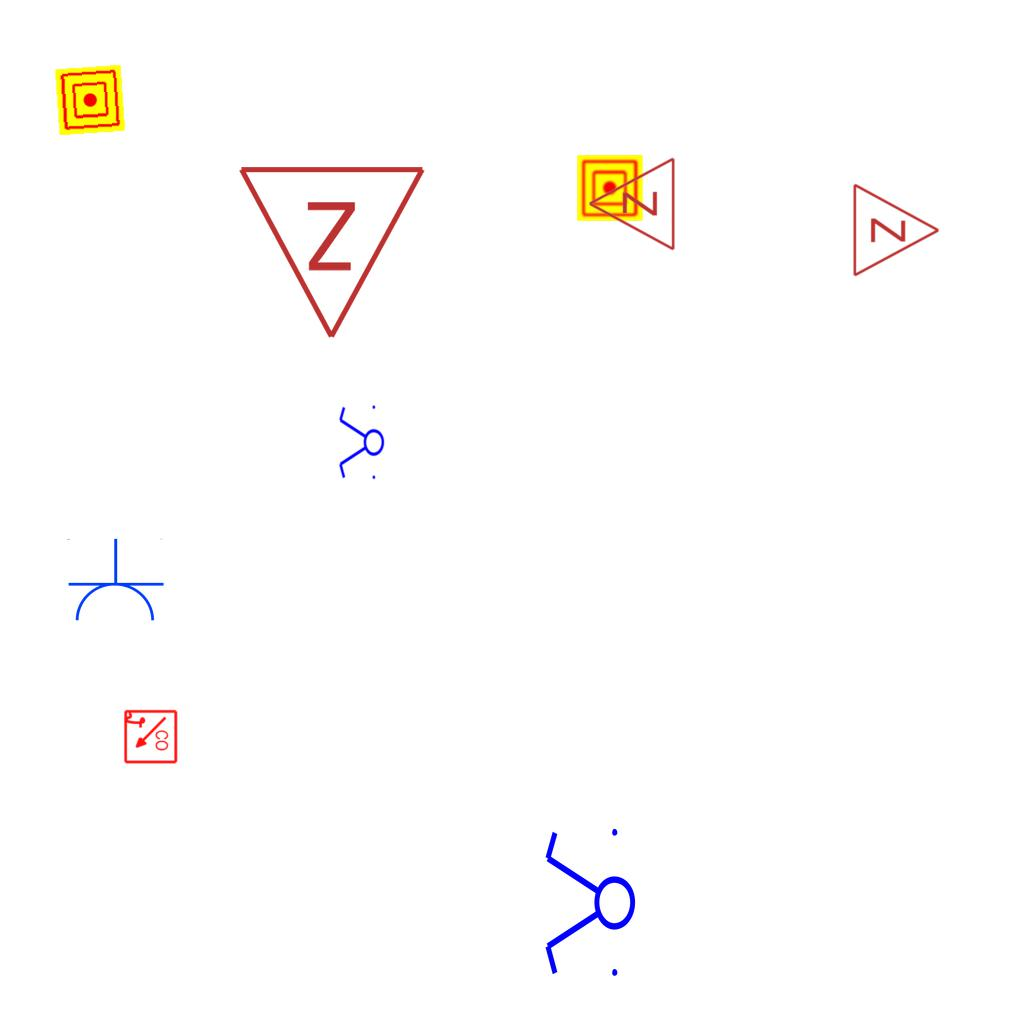NAM-Nichtautomatischer_Melder: (54, 64, 126, 136), (577, 155, 643, 221)
ROA_Rauchmelder_optisch_mit_Signalgeber_(Sockelsirene): (122, 709, 178, 765)
Schukosteckdose_einfach: (65, 538, 165, 625)
Serienschalter: (541, 820, 637, 988), (337, 401, 385, 485)
Zimmersignalleuchte: (236, 152, 432, 352), (846, 180, 946, 278), (582, 156, 682, 254)
